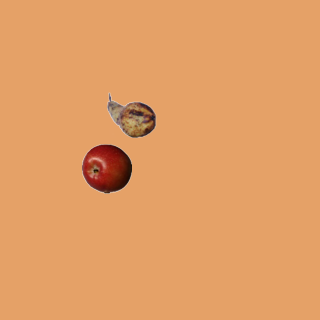Apple Braeburn: (81, 143, 131, 193)
Pear Abate: (106, 90, 156, 140)
